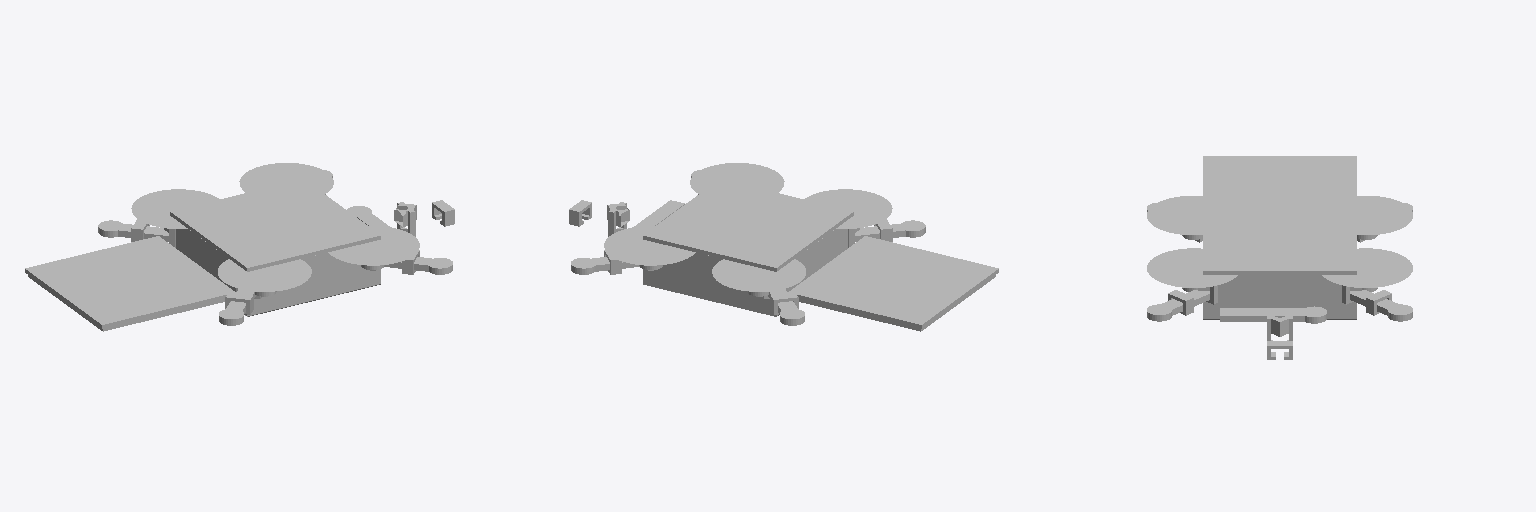
The model's file is Drone.obj.
The picture shows the model from 3 angles: view 1: azimuth 30°, elevation 25°; view 2: azimuth 150°, elevation 25°; view 3: azimuth 270°, elevation 25°; orthographic projection.
Parts seen in each view (by area): view 1: Cube.008, Cube.003, Cube.001, Circle.003, Motor.003, Cylinder, Circle.002, Circle.001, Cube.005, Cube.004; view 2: Cube.008, Cube.003, Cube.001, Circle.002, Circle.001, Cylinder, Circle.003, Motor.003, Cube.005, Cube.004; view 3: Cube.003, Cube.008, Cube.001, Motor.003, Circle.001, Circle.003, Circle.002, Cylinder, Cylinder.001, Cube.005, Cube.004.
Boxes of the visible parts, x1,y1,x2,y2 form: Cube.008: [25, 236, 235, 331]; Cube.003: [170, 179, 380, 271]; Cube.001: [176, 229, 380, 316]; Circle.003: [218, 259, 311, 296]; Motor.003: [328, 226, 419, 269]; Cylinder: [98, 170, 452, 325]; Circle.002: [131, 189, 219, 228]; Circle.001: [239, 163, 333, 193]; Cube.005: [131, 194, 419, 314]; Cube.004: [394, 202, 416, 236]; Cube.008: [788, 236, 998, 331]; Cube.003: [643, 179, 853, 271]; Cube.001: [643, 229, 847, 316]; Circle.002: [712, 259, 805, 296]; Circle.001: [604, 226, 695, 269]; Cylinder: [571, 170, 925, 325]; Circle.003: [804, 189, 892, 228]; Motor.003: [690, 163, 784, 193]; Cube.005: [604, 194, 892, 314]; Cube.004: [607, 202, 629, 236]; Cube.003: [1203, 205, 1356, 274]; Cube.008: [1203, 156, 1356, 204]; Cube.001: [1203, 275, 1356, 319]; Motor.003: [1147, 248, 1237, 291]; Circle.001: [1322, 248, 1412, 291]; Circle.003: [1147, 196, 1232, 239]; Circle.002: [1327, 196, 1412, 239]; Cylinder: [1147, 203, 1412, 321]; Cylinder.001: [1220, 306, 1326, 323]; Cube.005: [1168, 290, 1391, 315]; Cube.004: [1267, 315, 1292, 340].
Bounding box in the file's own units: 103 × 14.18 × 62.